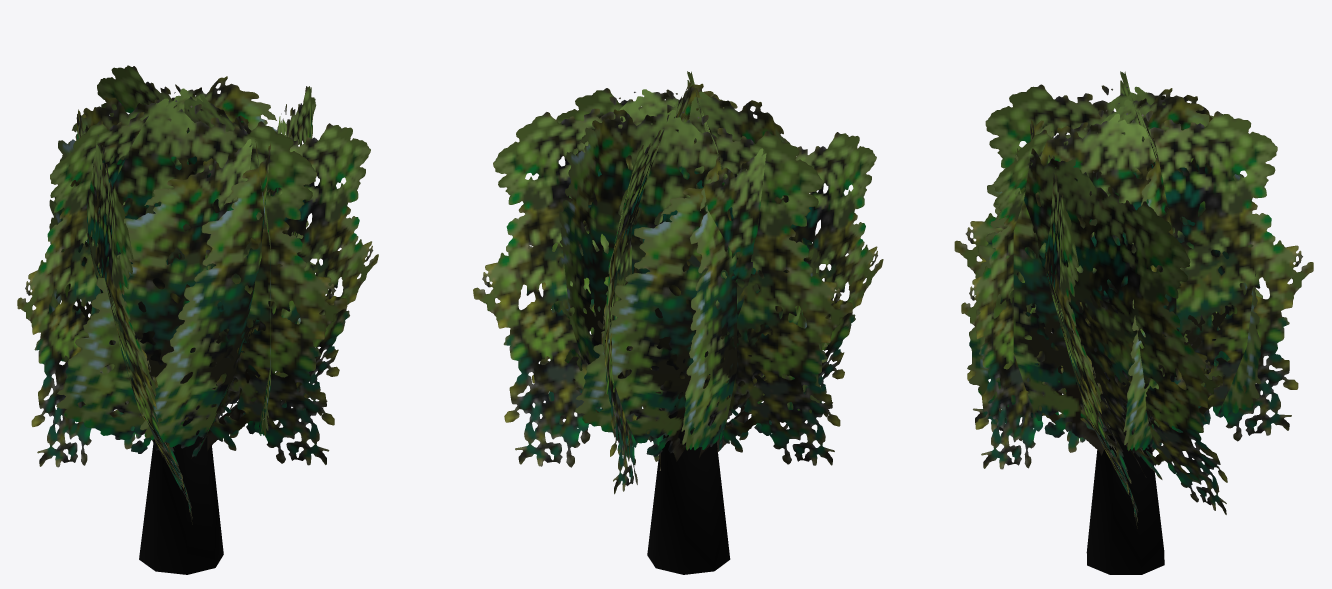
Rendered from tree_01a.fbx.
3 renders of one model, left to right at view 1: azimuth 30°, elevation 25°; view 2: azimuth 150°, elevation 25°; view 3: azimuth 270°, elevation 25°, orthographic. The views are drawn at different scales.
Visible parts, largest first — view 1: tree_01a; view 2: tree_01a; view 3: tree_01a.
Boxes of the visible parts, box(x1,y1,x2,y2) form: tree_01a: box(17, 65, 378, 574); tree_01a: box(473, 71, 883, 574); tree_01a: box(954, 71, 1313, 574).
Size of the model in its own units: 4.62 by 5.56 by 3.99.
